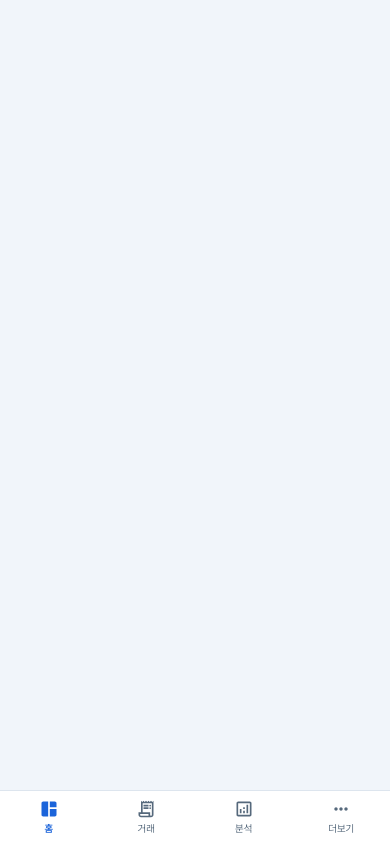
Test case: 더보기 시트 › 시트 항목에도 아이콘이 붙는다
Step 1. Click the button "더보기" → (341, 818), box [292,791,389,843]
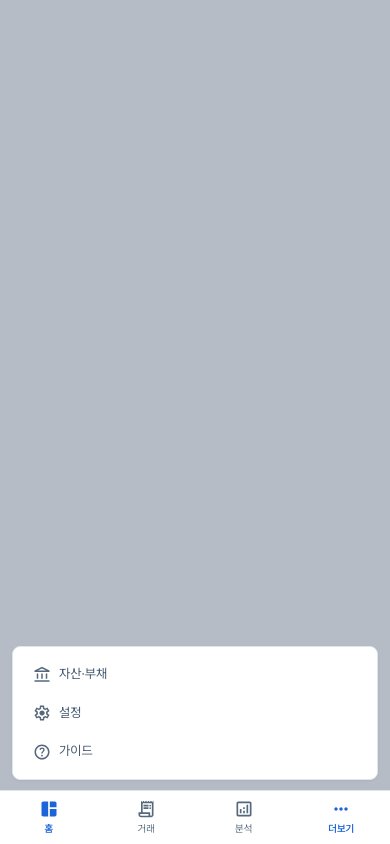
Expected: the icon next to "가이드" is shown, [33,743,51,761]
